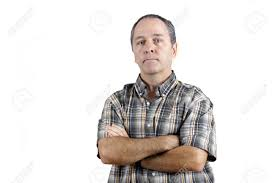white_male: (131, 25, 175, 76)
